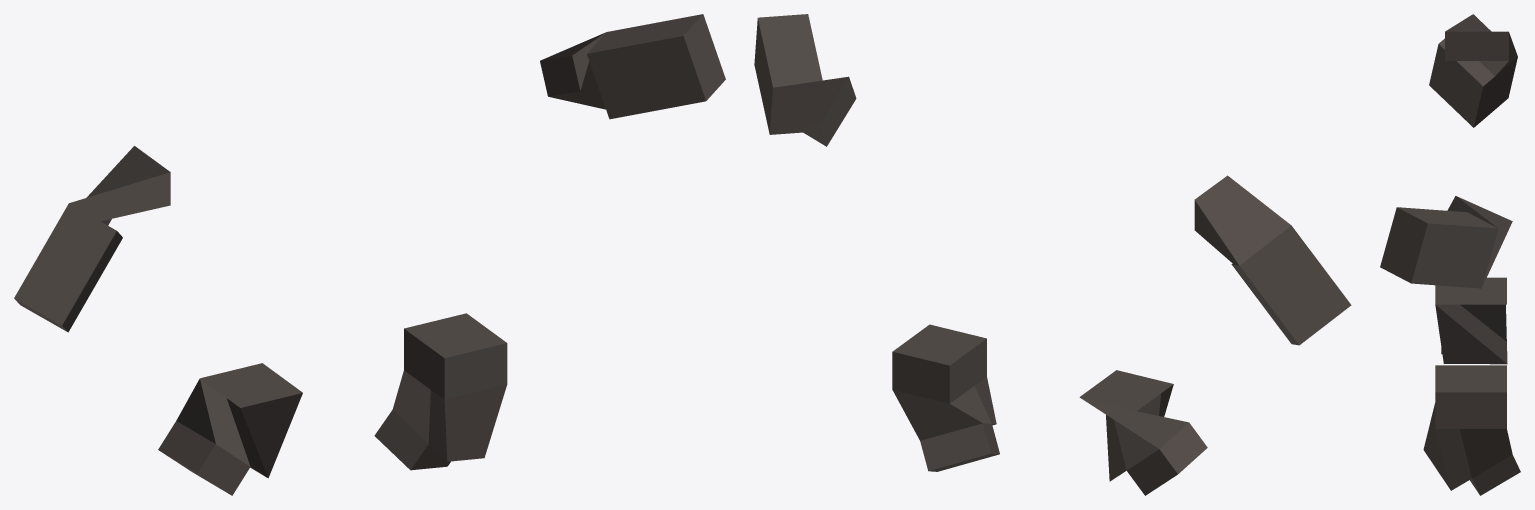
Rendered from Meta_limbs01.glb.
3 renders of one model, left to right at view 1: azimuth 30°, elevation 25°; view 2: azimuth 150°, elevation 25°; view 3: azimuth 270°, elevation 25°, orthographic. The views are drawn at different scales.
Visible parts, largest first — view 1: metaboy_default_detail_rounded.002; view 2: metaboy_default_detail_rounded.002; view 3: metaboy_default_detail_rounded.002.
Boxes of the visible parts, box(x1,y1,x2,y2) form: metaboy_default_detail_rounded.002: box(14, 14, 725, 495); metaboy_default_detail_rounded.002: box(754, 14, 1351, 495); metaboy_default_detail_rounded.002: box(1380, 14, 1520, 495).
Bounding box in the file's own units: 4.34 × 2.55 × 0.8816.
Materials: 1 (1 with a texture image).
